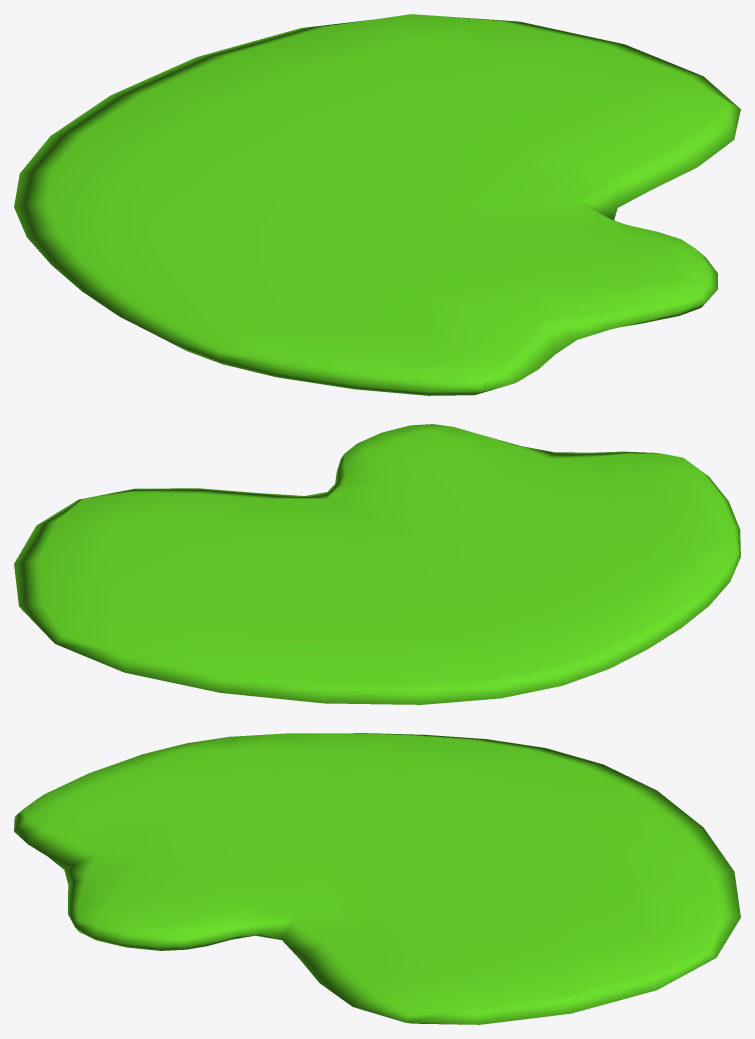
The model's file is Poca.fbx.
3 renders of one model, top to bottom at view 1: azimuth 30°, elevation 25°; view 2: azimuth 150°, elevation 25°; view 3: azimuth 270°, elevation 25°, orthographic. The views are drawn at different scales.
Parts seen in each view (by area): view 1: Poça; view 2: Poça; view 3: Poça.
Part boxes in pixels (left/top/right/bottom): Poça: left=14, top=14, right=740, bottom=395; Poça: left=14, top=424, right=740, bottom=704; Poça: left=14, top=733, right=740, bottom=1024.
Size of the model in its own units: 579 by 18.69 by 610.
